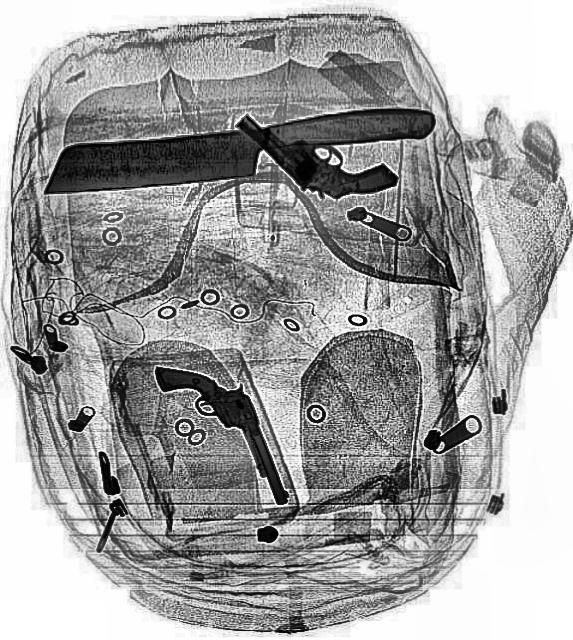Gun: (233, 67, 399, 235), (151, 338, 290, 530)
Knife: (40, 104, 436, 194)
